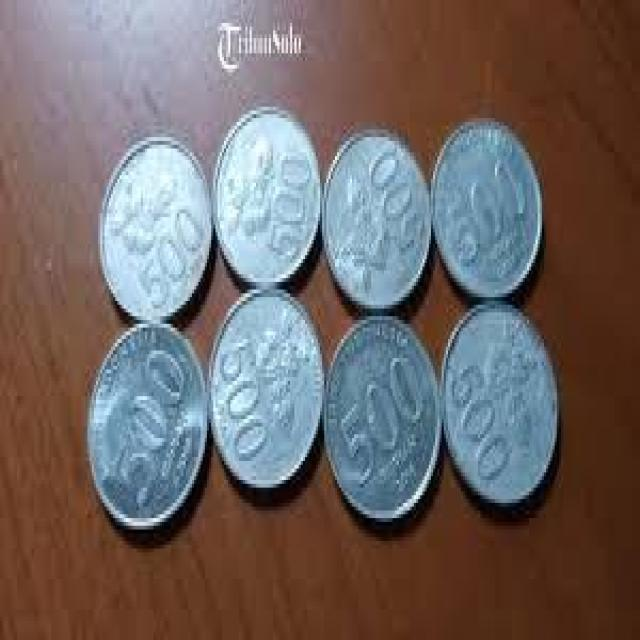500-silver: (82, 325, 212, 543), (448, 297, 563, 527), (324, 312, 441, 526), (211, 295, 325, 498), (319, 128, 440, 310), (218, 92, 322, 290), (437, 98, 542, 294), (96, 126, 207, 310)
